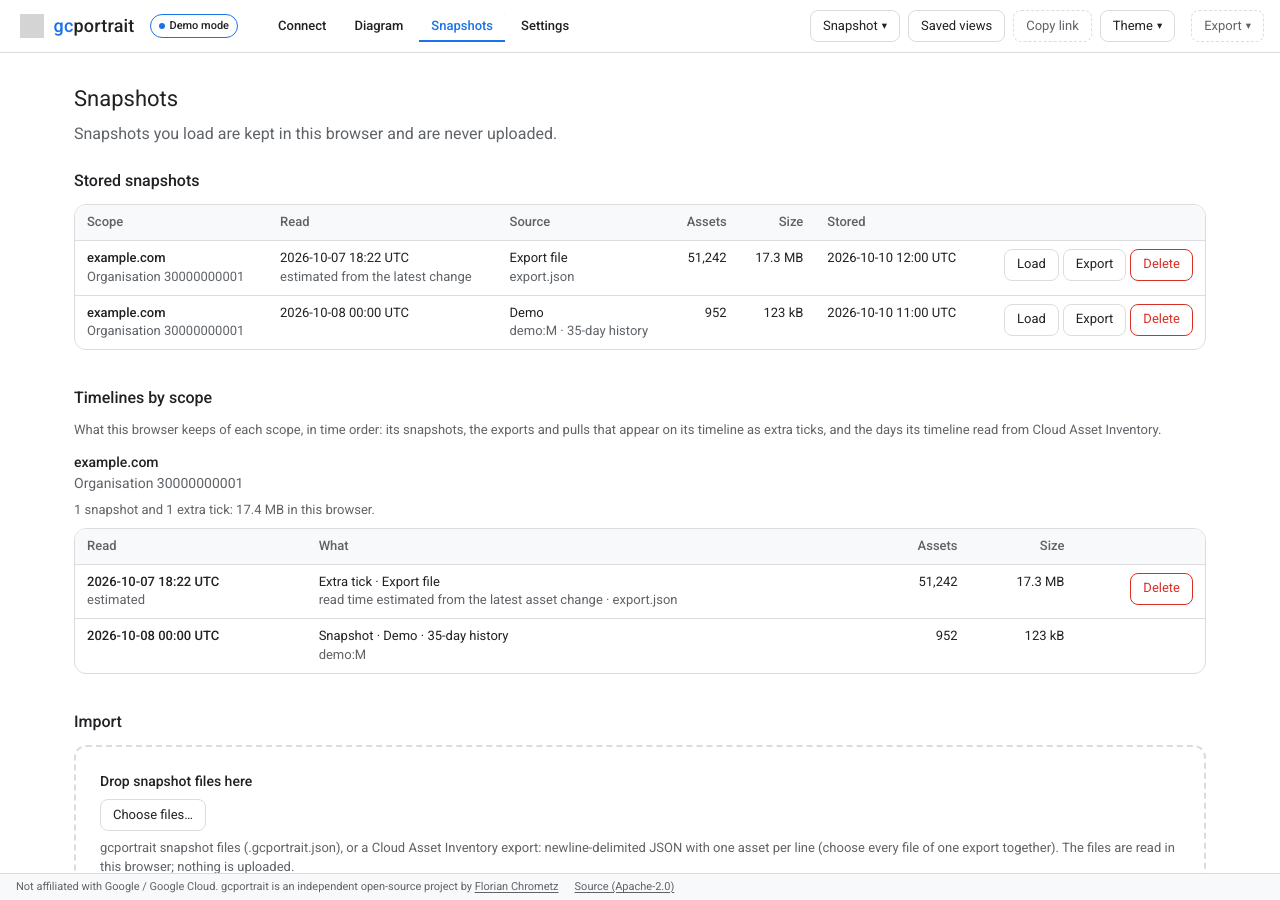
Test: the Snapshots page › exports a snapshot as a file
Click the button with aria-label "Export example.com, read 2026-10-08 00:00 UTC, demo:M" at [1095, 320], box [1063,304,1126,336]
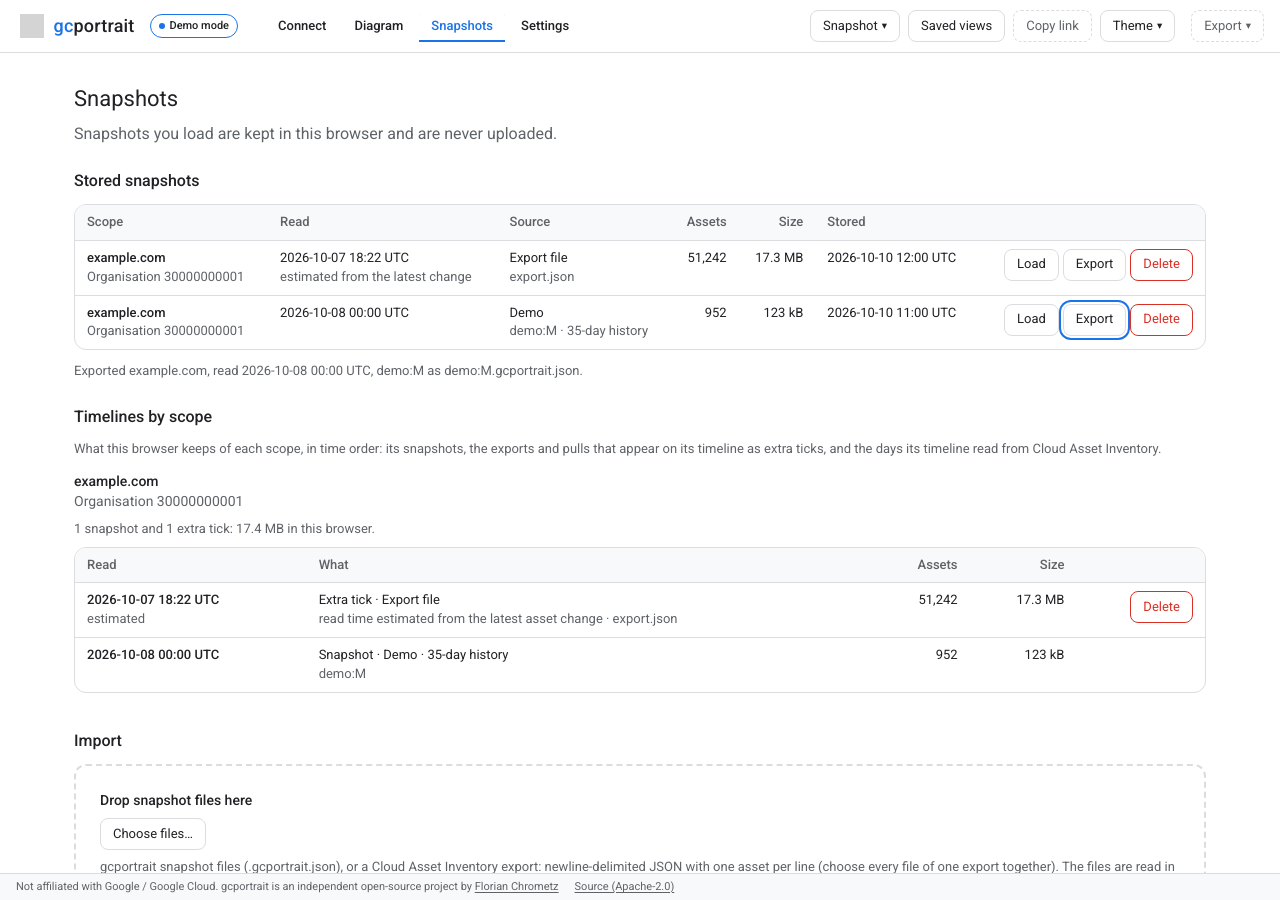
Result: the text "Exported example.com, read 2026-10-08 00:00 UTC, demo:M as demo:M.gcportrait.json." is shown at [74,363,583,378]
